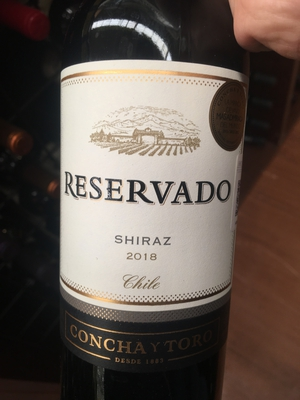reservado shiraz: (53, 14, 259, 400)
